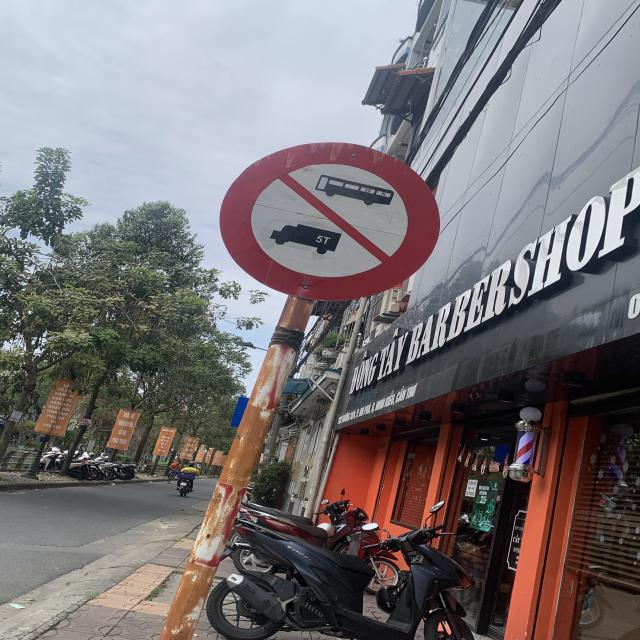Cam_XeTai_XeKhach: (219, 142, 443, 298)
